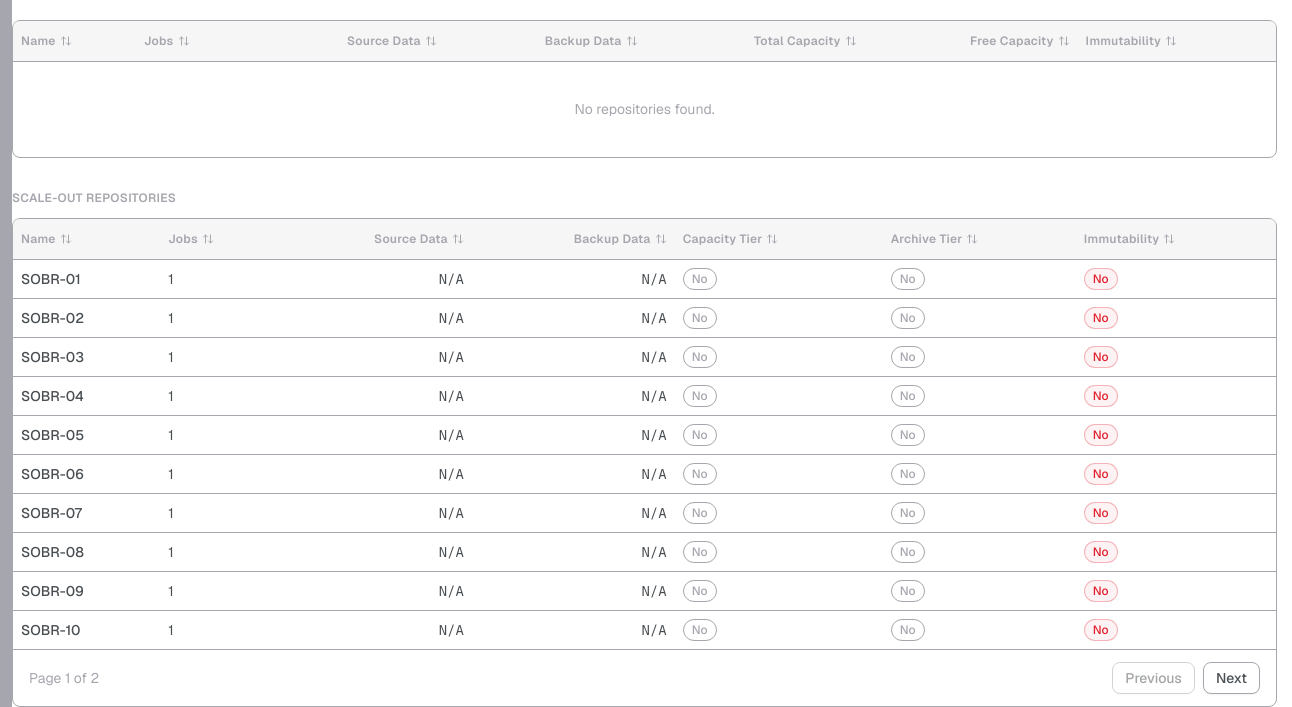
Test case: Scale-Out Repositories pagination › navigates to next page in SOBR table
(page scrolled)
Click the button "Next" at (1231, 678), box [1203,662,1260,694]
(page scrolled)
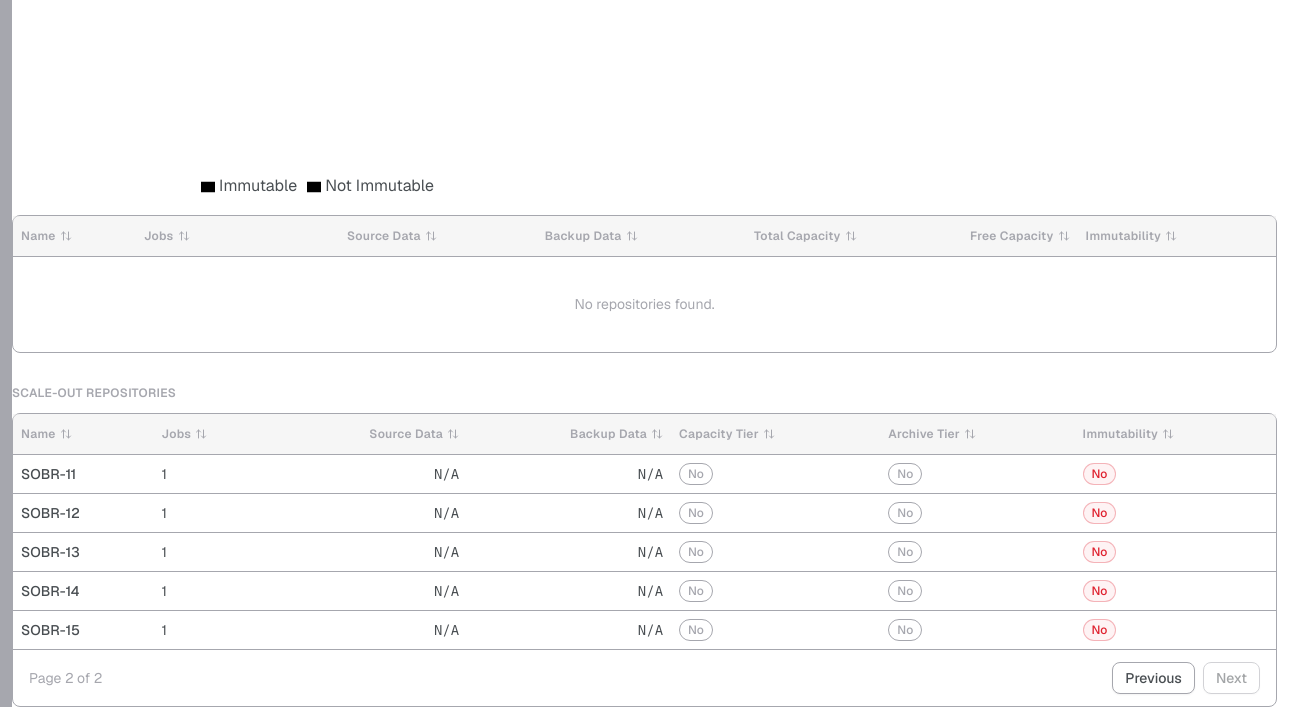
Check: the text "SOBR-11" is shown, box [21,464,76,482]
Check: the button "SOBR-01" is gone
Check: the text "Page 2 of 2" is shown, box [29,668,102,688]
